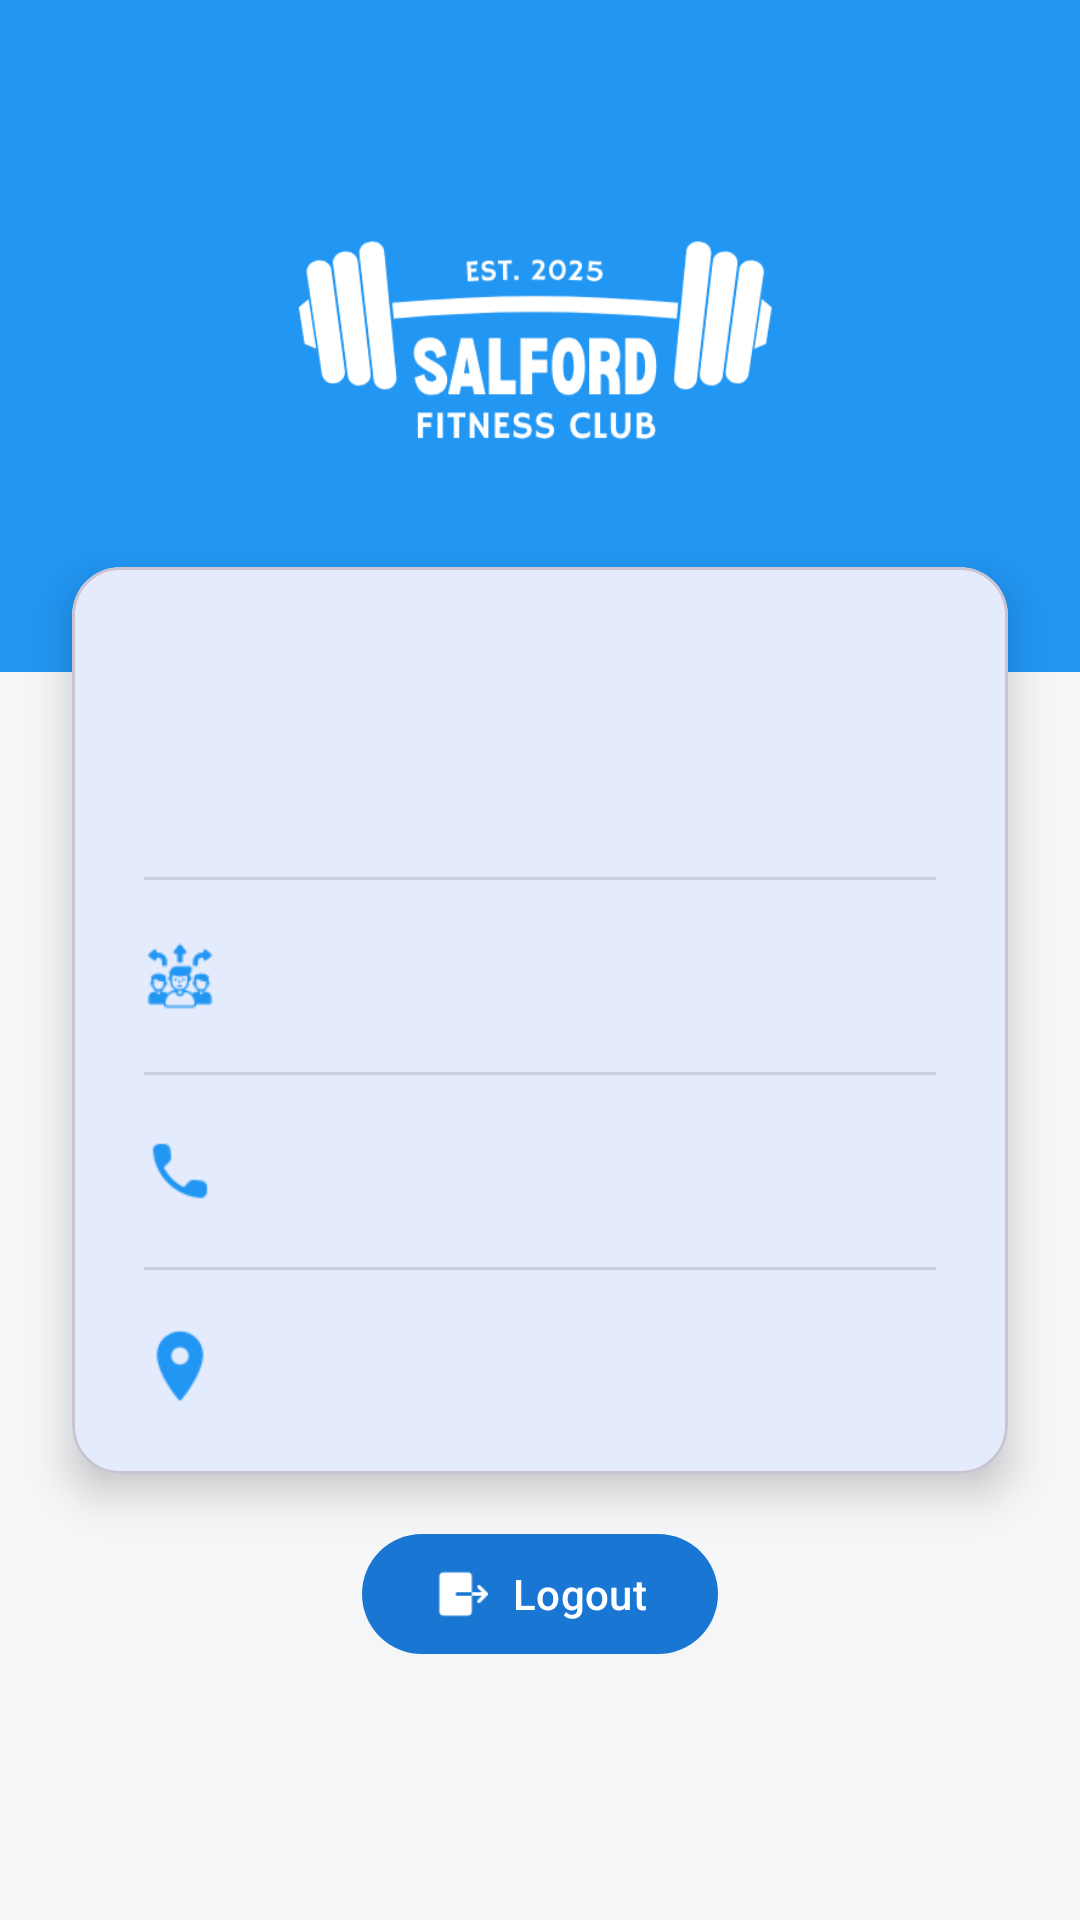

Where icons sit on this 1080 × 1920 app screen, as (left=x1, top=y1, right=x2, bottom=y2):
location: (left=156, top=1330, right=204, bottom=1401)
phone: (left=152, top=1143, right=208, bottom=1199)
role: (left=147, top=943, right=213, bottom=1009)
